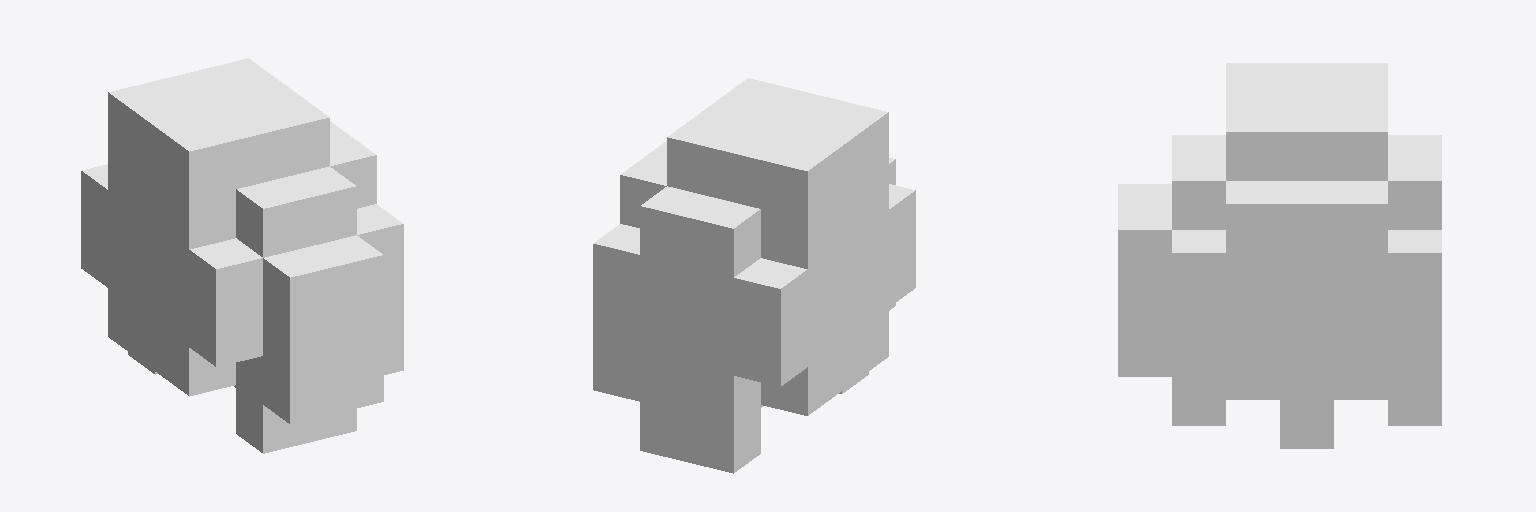
Rendered from kot-1.obj.
The picture shows the model from 3 angles: view 1: azimuth 30°, elevation 25°; view 2: azimuth 150°, elevation 25°; view 3: azimuth 270°, elevation 25°; orthographic projection.
Visible parts, largest first — view 1: object 1; view 2: object 1; view 3: object 1.
Part boxes in pixels (left/top/right/bottom): object 1: left=81, top=58, right=403, bottom=453; object 1: left=593, top=78, right=915, bottom=473; object 1: left=1118, top=63, right=1441, bottom=448.
Size of the model in its own units: 0.4 by 0.6 by 0.6.